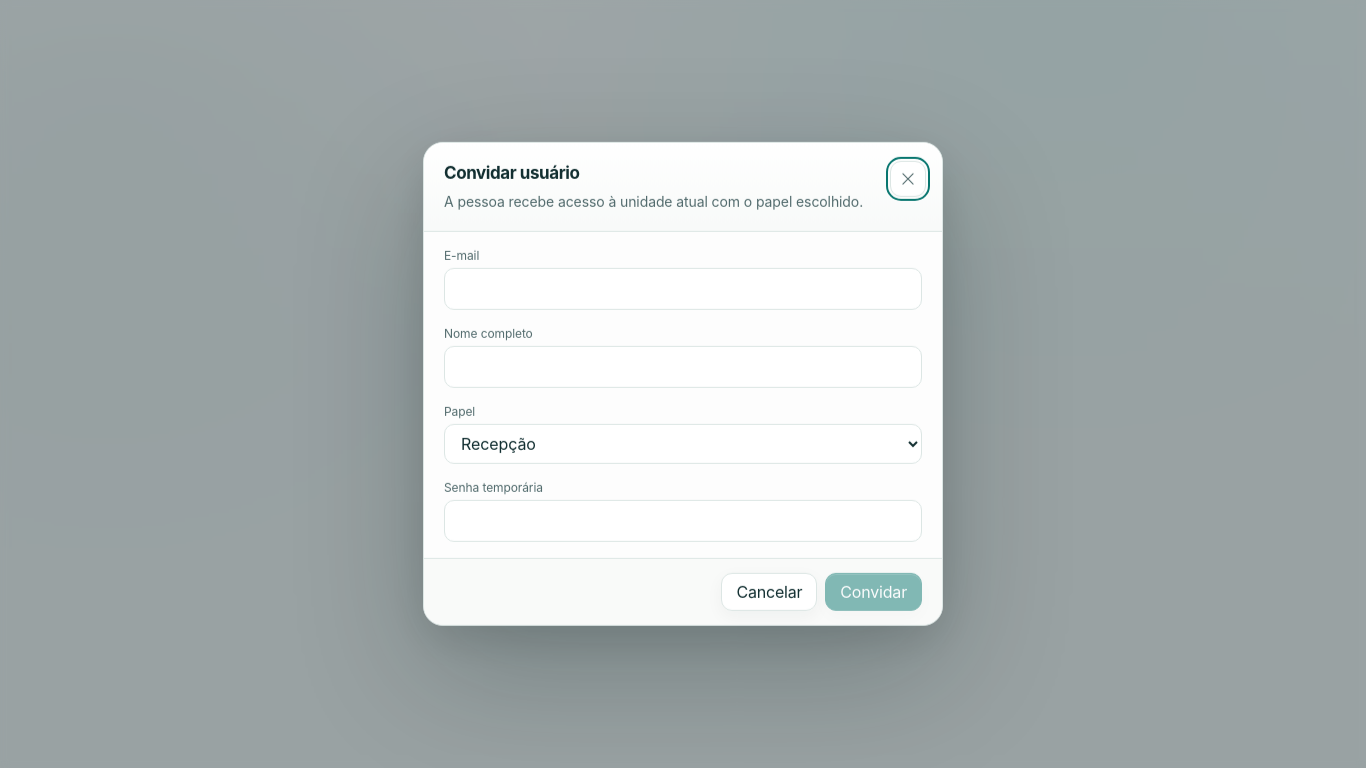
Test: ConvidarUsuario › campos profissionais aparecem ao selecionar role profissional
Check: the field labelled "número do conselho" is not shown
Select "Profissional de saúde" in the dropdown labelled "Papel" at (683, 444), box [444,424,922,464]
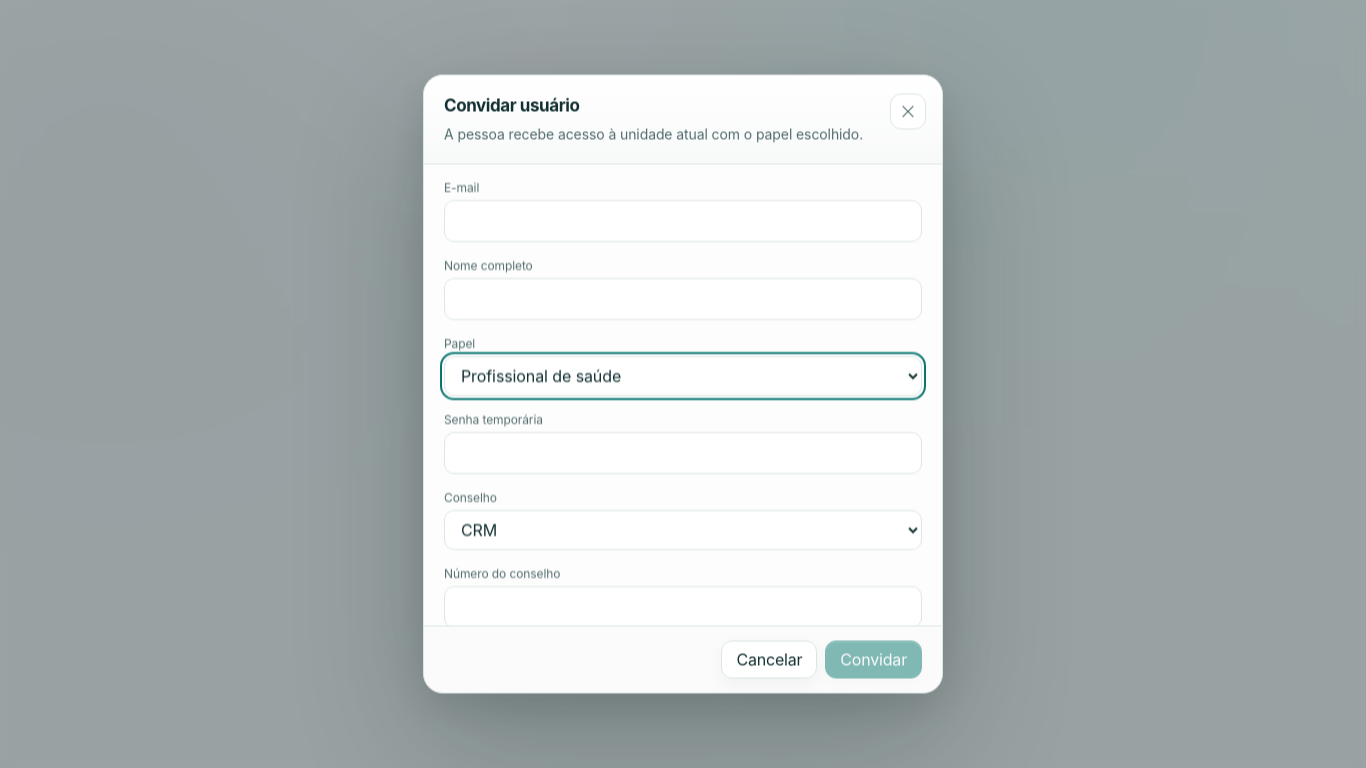
Check: the dropdown labelled "Conselho" is shown, box [444,511,922,551]
Check: the field labelled "Número do conselho" is shown, box [444,587,922,626]
